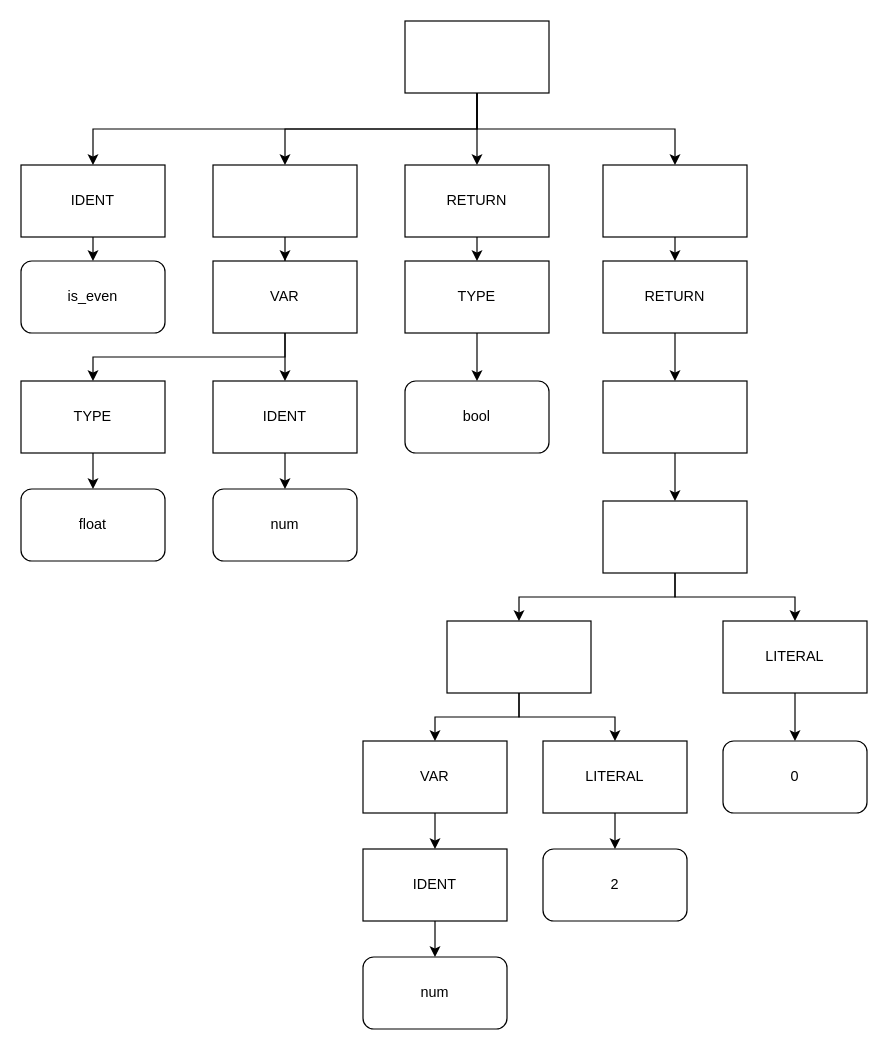
This 888x1050 diagram has some shape labels left out. Here are the shapes that lost their labels. From the top down, the centre of each, then its label:
At (x=476, y=56): "FUNCTION".
At (x=284, y=200): "ARGS".
At (x=674, y=200): "BODY".
At (x=674, y=416): "EXPRESSION".
At (x=674, y=536): "EQUAL".
At (x=518, y=656): "MODULO".
